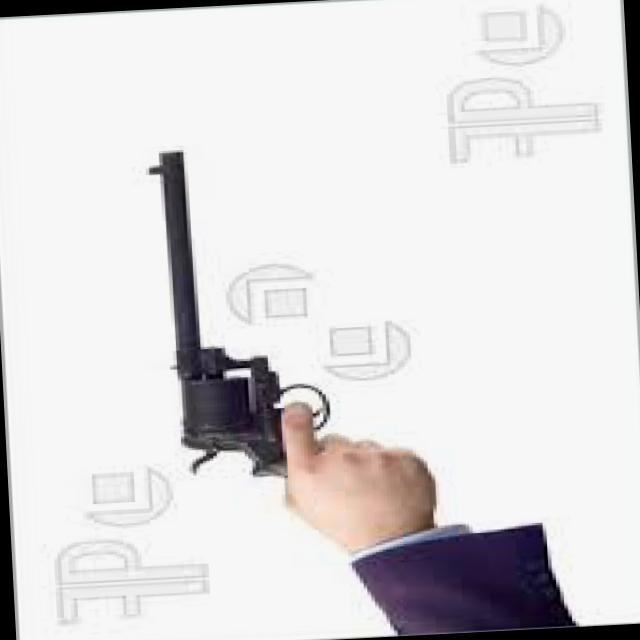handgun: (138, 137, 344, 486)
